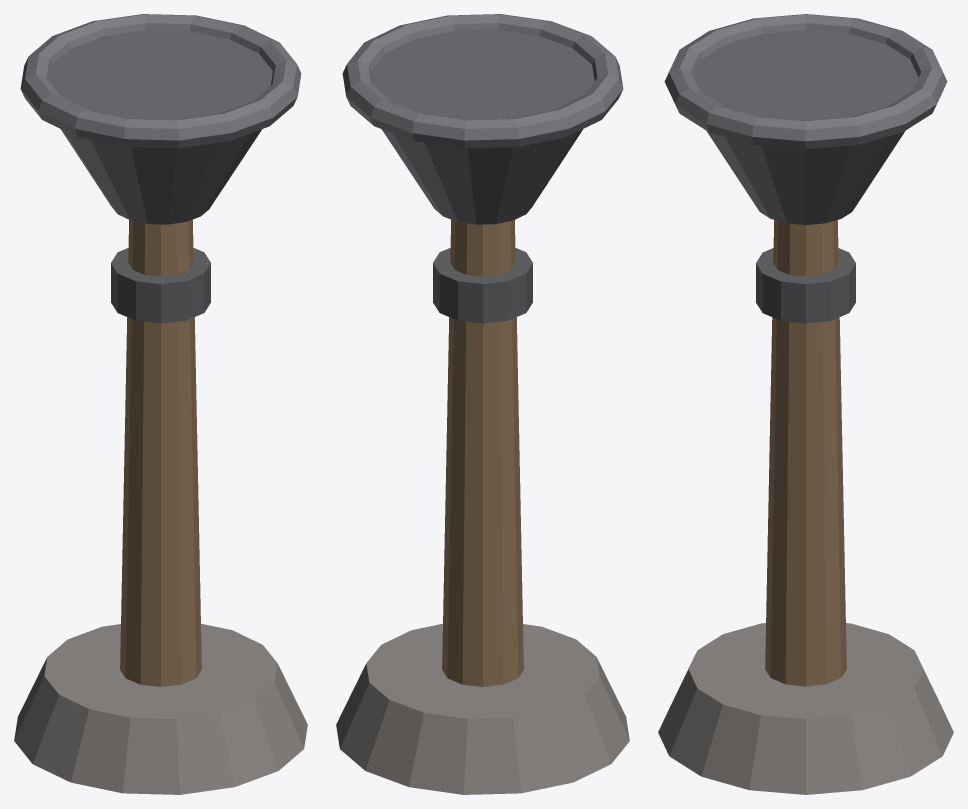
The model's file is Torch.glb.
3 renders of one model, left to right at view 1: azimuth 30°, elevation 25°; view 2: azimuth 150°, elevation 25°; view 3: azimuth 270°, elevation 25°, orthographic.
Visible parts, largest first — view 1: Torch; view 2: Torch; view 3: Torch.
Boxes of the visible parts, left/top/right/bottom form: Torch: left=14, top=14, right=307, bottom=794; Torch: left=336, top=14, right=629, bottom=794; Torch: left=658, top=14, right=953, bottom=794.
Size of the model in its own units: 0.68 by 1.68 by 0.68.
